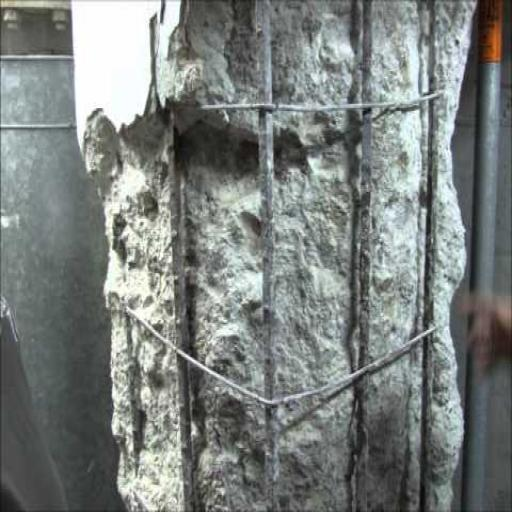spalling: (80, 4, 477, 512)
